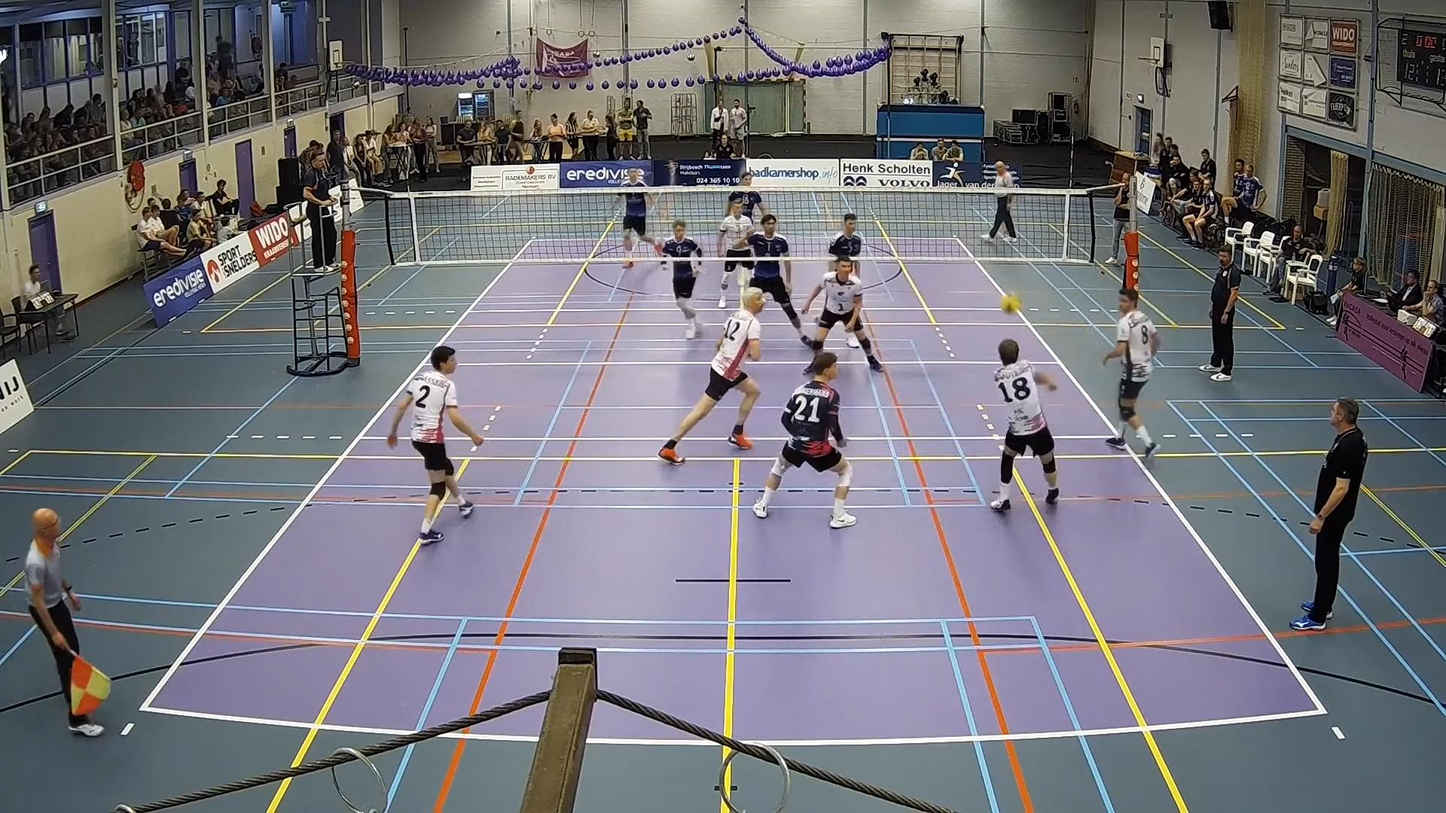Player: (386, 346, 483, 544), (658, 288, 764, 464), (752, 352, 855, 528), (1104, 288, 1158, 457), (802, 258, 882, 371), (745, 215, 807, 343), (661, 220, 702, 339), (618, 169, 660, 267), (717, 202, 752, 308), (728, 172, 767, 222), (828, 213, 862, 270)
Receive: (976, 335, 1064, 524)
ball: (1002, 293, 1018, 313)
